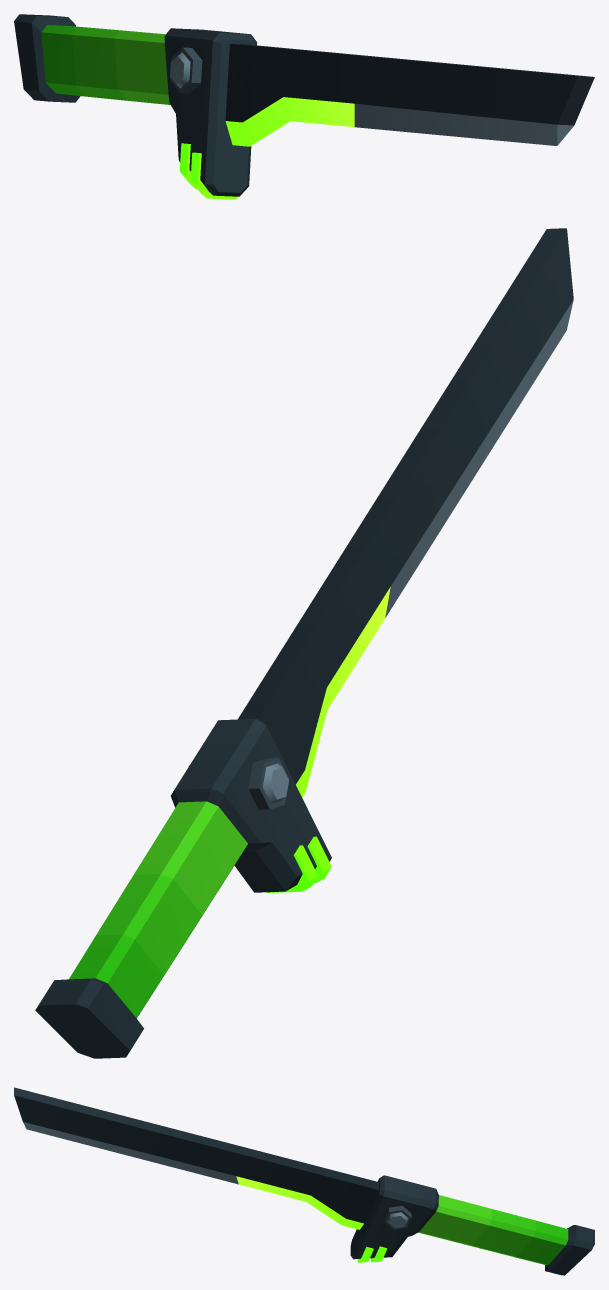
Rendered from Level3Sword.fbx.
The picture shows the model from 3 angles, top to bottom: view 1: azimuth 30°, elevation 25°; view 2: azimuth 150°, elevation 25°; view 3: azimuth 270°, elevation 25°; orthographic projection. The views are drawn at different scales.
Parts seen in each view (by area): view 1: Sword_02_Green; view 2: Sword_02_Green; view 3: Sword_02_Green.
Part boxes in pixels (x1,y1,x2,y2): Sword_02_Green: (14,14,594,199); Sword_02_Green: (35,228,573,1058); Sword_02_Green: (14,1087,594,1275).
Bounding box in the file's own units: 13.7 × 40.02 × 102.
Materials: 1 (1 with a texture image).
